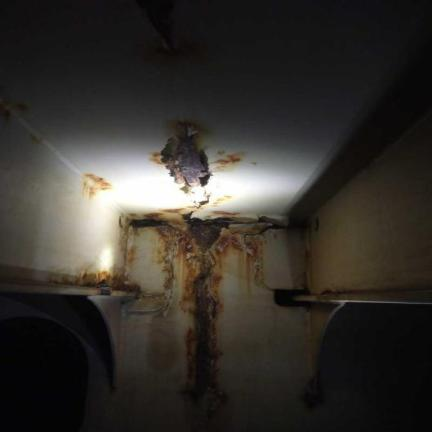karat: (156, 216, 245, 427)
